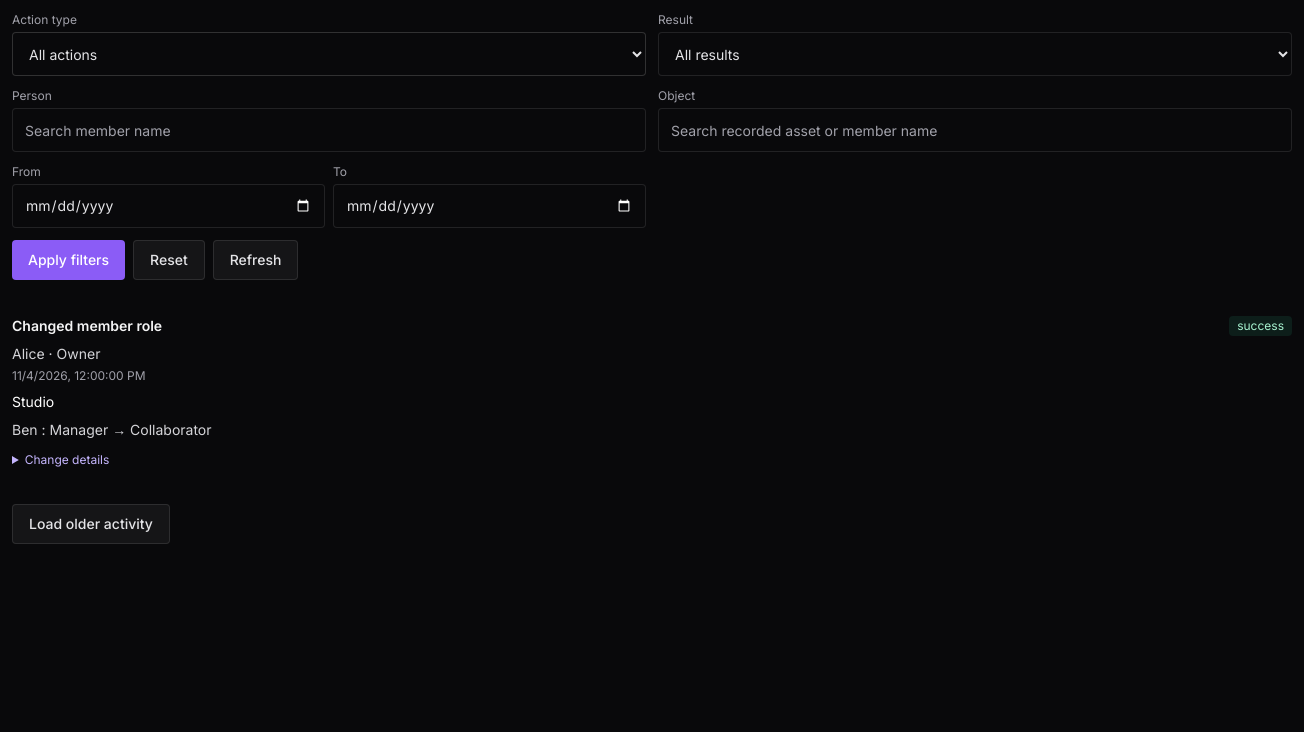
Workspace feed applies human-readable filters and paginates without duplicate events
Later steps or results of the test are not shown.
Click the button "Load older activity".
click(91, 524)  # box [12,504,170,544]
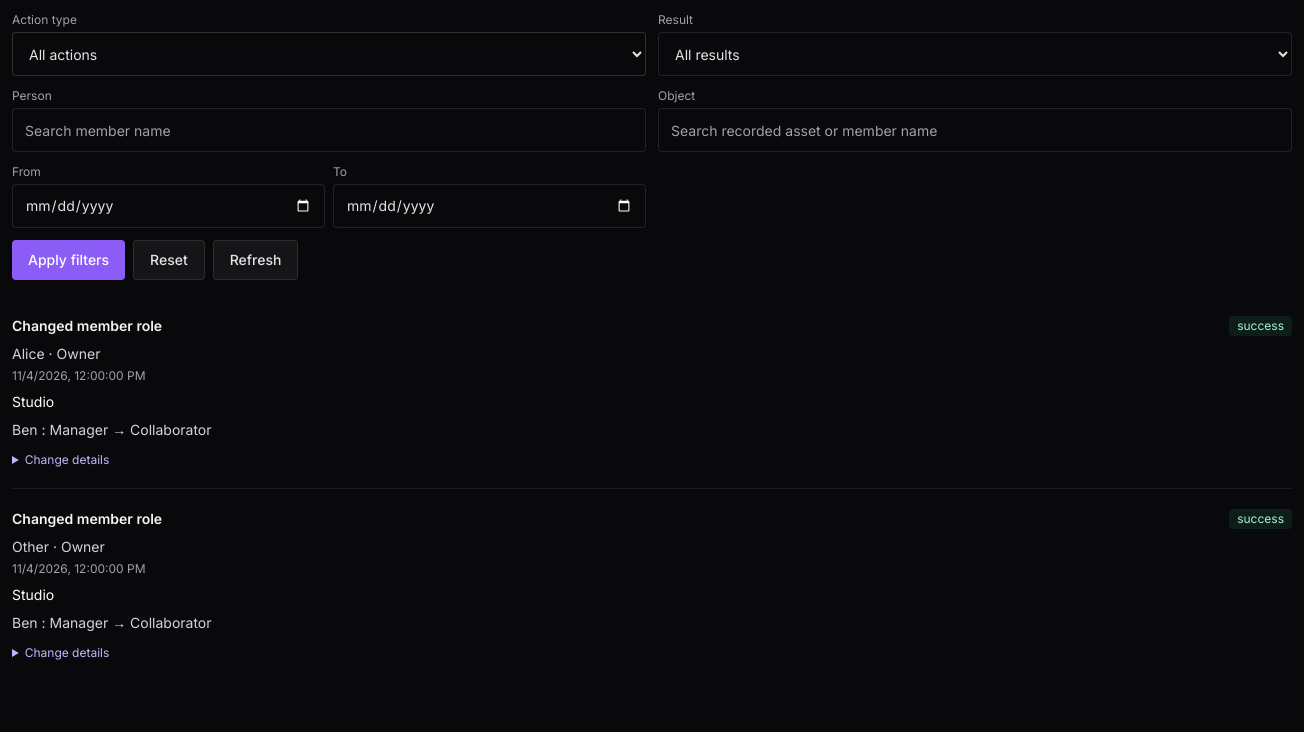
Check: the text "Alice · Owner" is shown once, box [12,345,100,362]
Check: the text "Other · Owner" is shown, box [12,538,105,555]
